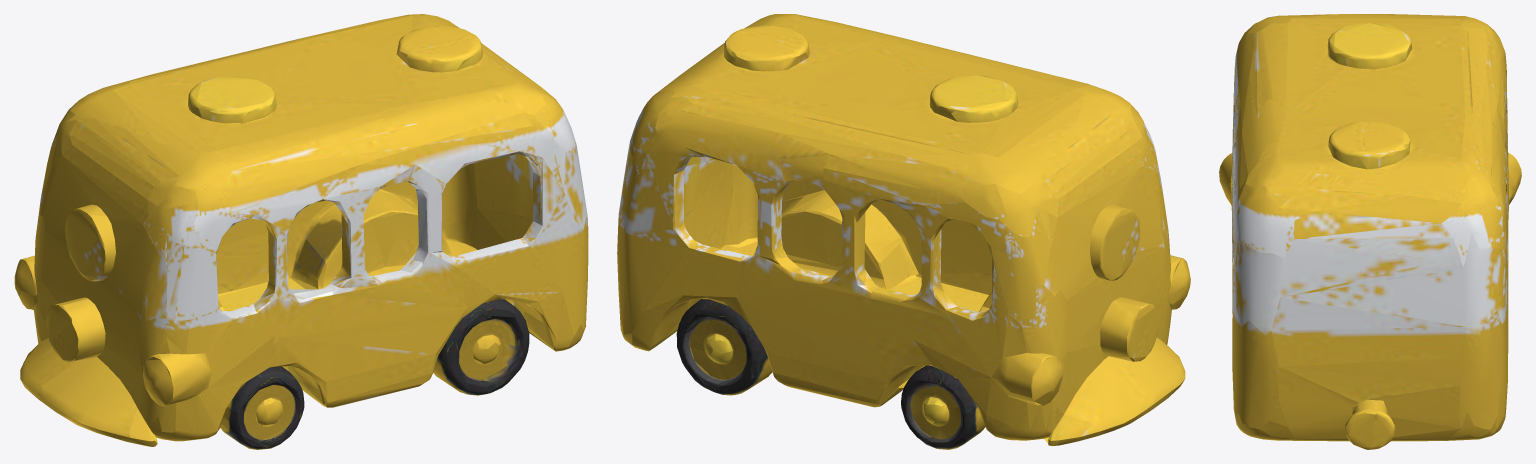
File: gogoCarriage.fd937283.glb
3 renders of one model, left to right at view 1: azimuth 30°, elevation 25°; view 2: azimuth 150°, elevation 25°; view 3: azimuth 270°, elevation 25°, orthographic. The views are drawn at different scales.
Parts seen in each view (by area): view 1: body; view 2: body; view 3: body.
Boxes of the visible parts, <box> form: body: <box>14,14,588,449</box>; body: <box>617,14,1190,449</box>; body: <box>1219,14,1521,449</box>.
Bounding box in the file's own units: 1.9 × 1.05 × 0.9786.
1 material, 1 textured.
